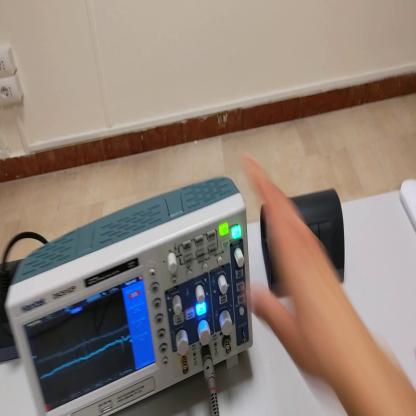hand: (242, 154, 350, 385)
oscilloscope: (2, 175, 254, 416)
socket: (3, 260, 23, 365)
